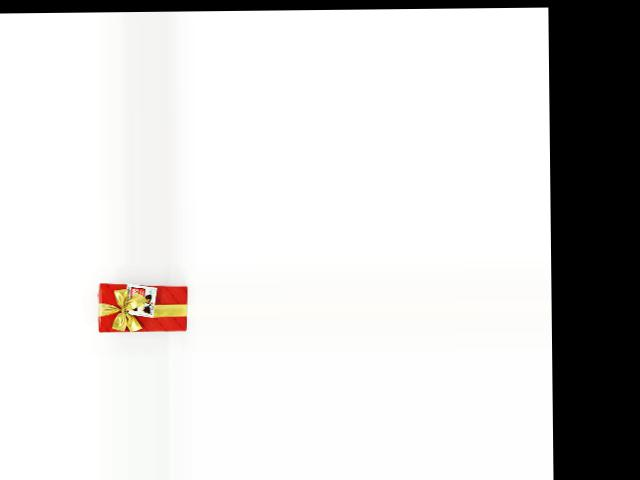chocolate: (94, 282, 186, 336)
